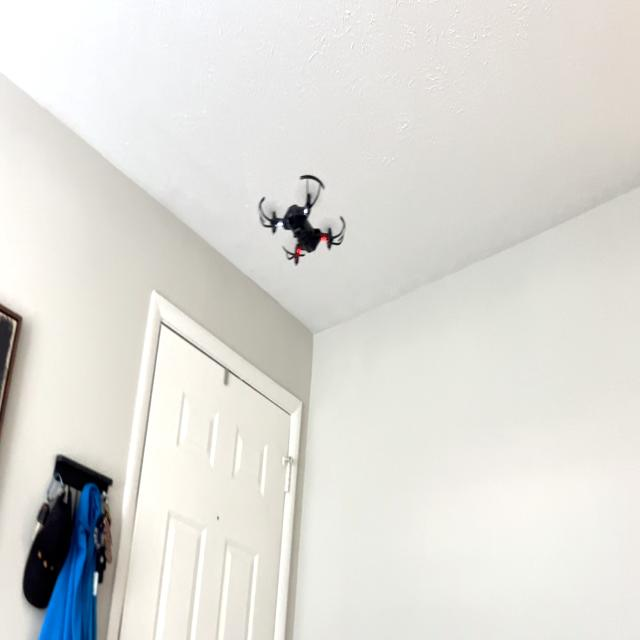drone: (248, 159, 358, 273)
